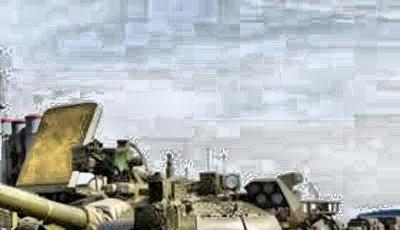tanks: (1, 104, 303, 230), (332, 226, 338, 230)
